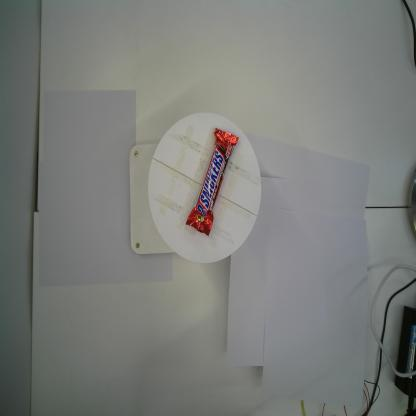Chocolate: (184, 126, 240, 239)
